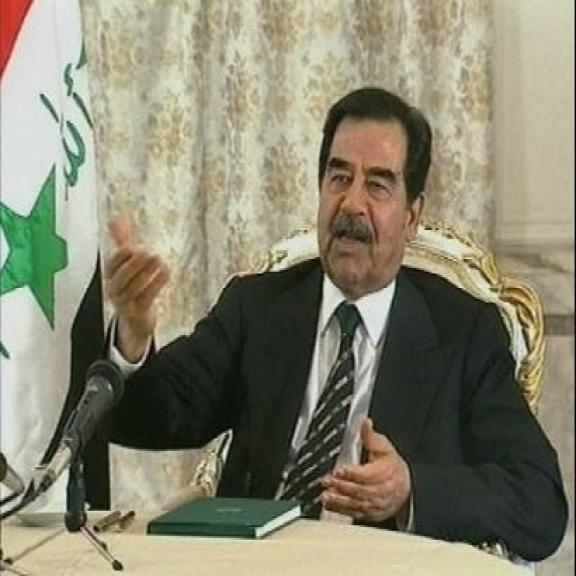face: (318, 102, 433, 297)
